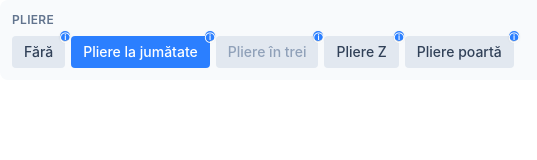
Test: FoldingControl — folds the press cannot open out › says the press is why, rather than just going grey
The width and height of the screenshot is (537, 160).
// The fold button is disabled, so the reason hangs off the Badge beside it.
What coordinates should you click on to do the following:
click the button named "Detalii"
I would click on:
 (318, 36)
Its box is [313,31,324,41].
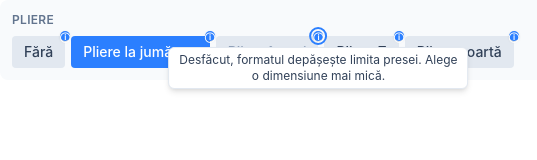
Expected: the tooltip "depășește limita presei" is shown, [179,52,458,83]
